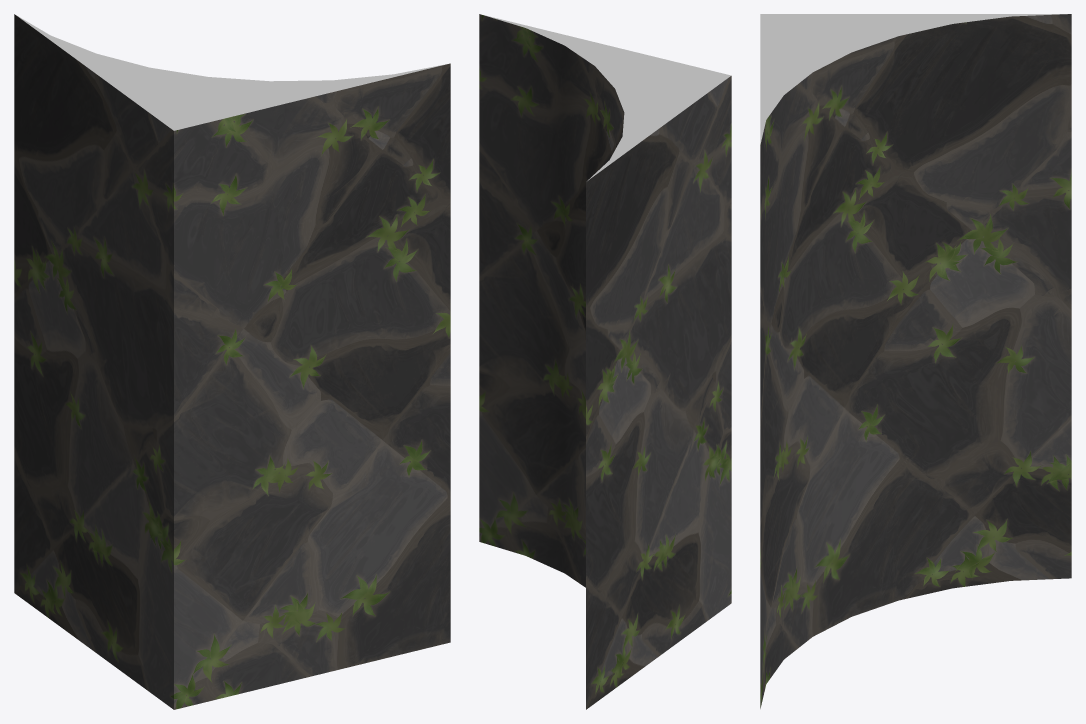
Rendered from Povorot_st_01.fbx.
3 renders of one model, left to right at view 1: azimuth 30°, elevation 25°; view 2: azimuth 150°, elevation 25°; view 3: azimuth 270°, elevation 25°, orthographic. The views are drawn at different scales.
Parts seen in each view (by area): view 1: Object087, Object086, Plane016; view 2: Object086, Object085, Plane016; view 3: Object085, Plane016.
Part boxes in pixels (x1=…): Object087: x1=174, y1=63, x2=450, y2=709; Object086: x1=14, y1=14, x2=173, y2=709; Plane016: x1=16, y1=15, x2=447, y2=130; Object086: x1=586, y1=76, x2=731, y2=709; Object085: x1=479, y1=14, x2=624, y2=587; Plane016: x1=482, y1=14, x2=731, y2=180; Object085: x1=760, y1=14, x2=1071, y2=708; Plane016: x1=760, y1=14, x2=1067, y2=144.
Bounding box in the file's own units: 400 × 400 × 800.
